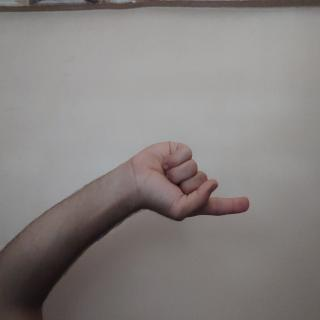BAA: (101, 85, 167, 258)
